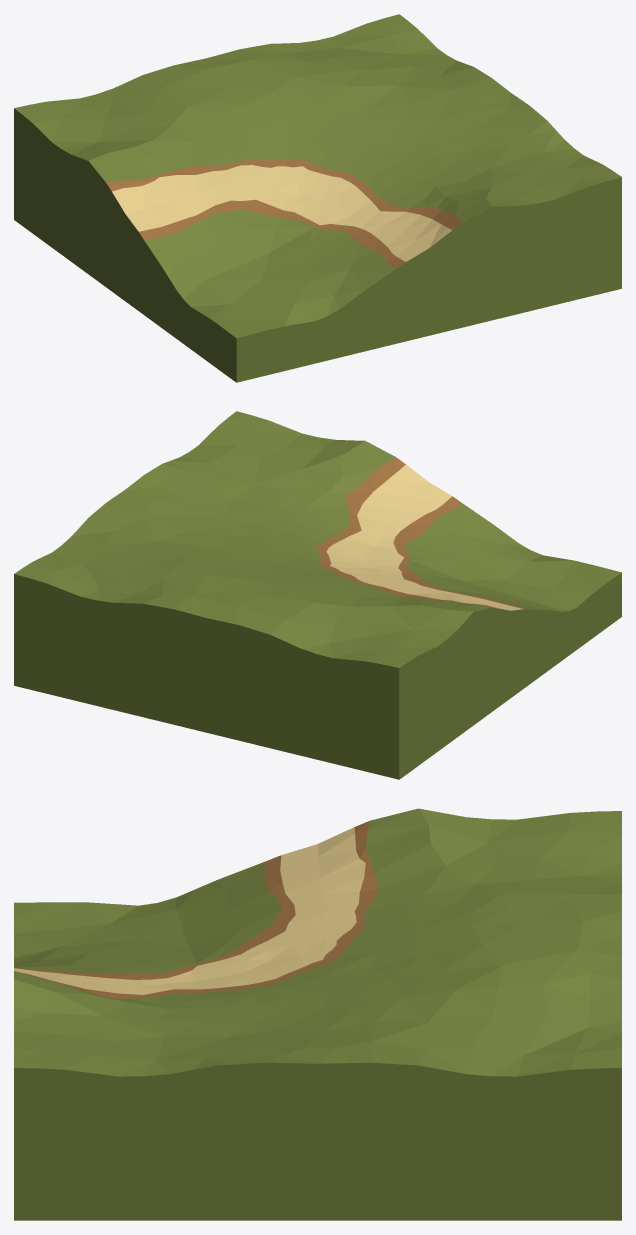
File: Terrian_Road_Bend_HillDip-03.fbx
3 renders of one model, top to bottom at view 1: azimuth 30°, elevation 25°; view 2: azimuth 150°, elevation 25°; view 3: azimuth 270°, elevation 25°, orthographic. The views are drawn at different scales.
Visible parts, largest first — view 1: Terrian_Road_Bend_HillDip-03; view 2: Terrian_Road_Bend_HillDip-03; view 3: Terrian_Road_Bend_HillDip-03.
Part boxes in pixels (box(x1,y1,x2,y2)): Terrian_Road_Bend_HillDip-03: box(14, 14, 621, 382); Terrian_Road_Bend_HillDip-03: box(14, 411, 621, 779); Terrian_Road_Bend_HillDip-03: box(14, 808, 621, 1220).
Bounding box in the file's own units: 3600 × 1052 × 3600.
Materials: 1 (1 with a texture image).
